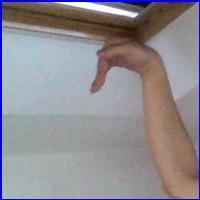del: (89, 31, 163, 101)
